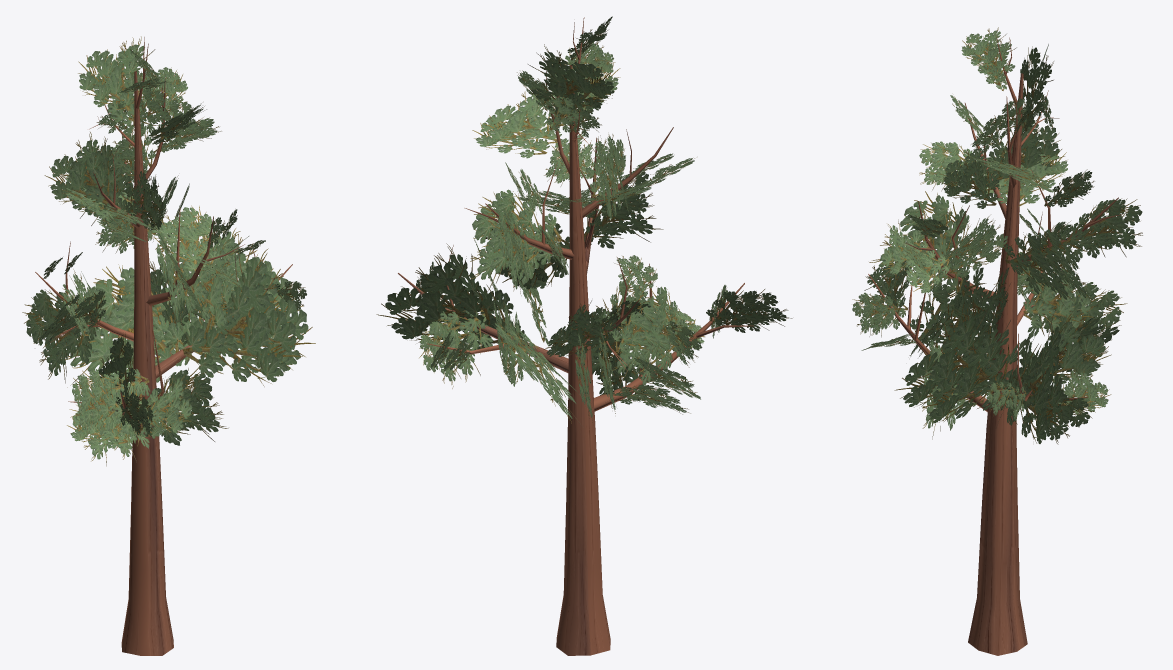
Rendered from TemperateTree_Broad.glb.
3 renders of one model, left to right at view 1: azimuth 30°, elevation 25°; view 2: azimuth 150°, elevation 25°; view 3: azimuth 270°, elevation 25°, orthographic. The views are drawn at different scales.
Visible parts, largest first — view 1: tree_leaves_higher; view 2: tree_leaves_higher; view 3: tree_leaves_higher.
Boxes of the visible parts, x1,y1,x2,y2 form: tree_leaves_higher: [22, 36, 315, 655]; tree_leaves_higher: [376, 16, 792, 655]; tree_leaves_higher: [852, 27, 1142, 655].
Size of the model in its own units: 6.26 by 11 by 5.14.
Materials: 2 (2 with a texture image).
